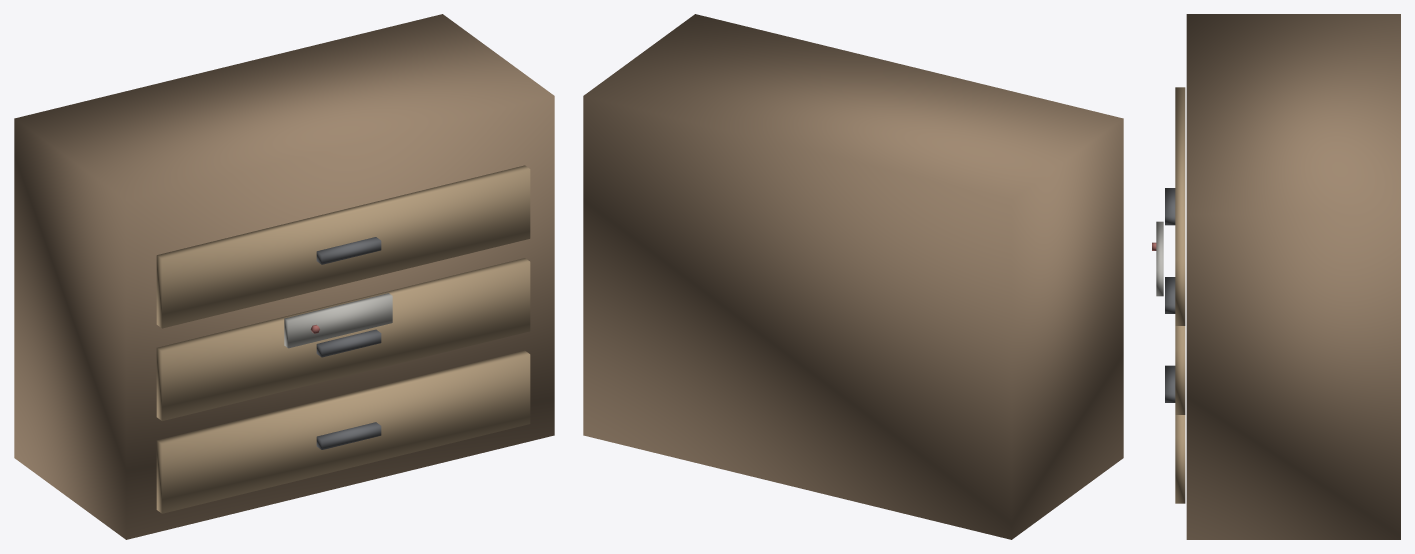
The model's file is motel_dresser__reinforced.glb.
3 renders of one model, left to right at view 1: azimuth 30°, elevation 25°; view 2: azimuth 150°, elevation 25°; view 3: azimuth 270°, elevation 25°, orthographic. The views are drawn at different scales.
Visible parts, largest first — view 1: world; view 2: world; view 3: world.
Part boxes in pixels (box(x1,y1,x2,y2)): world: box(14, 14, 554, 539); world: box(583, 14, 1123, 539); world: box(1152, 14, 1400, 539).
Size of the model in its own units: 1.18 by 0.8976 by 0.6216.
